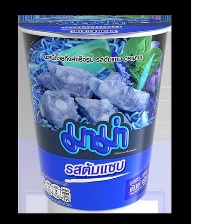paper_cup: (18, 14, 171, 212)
